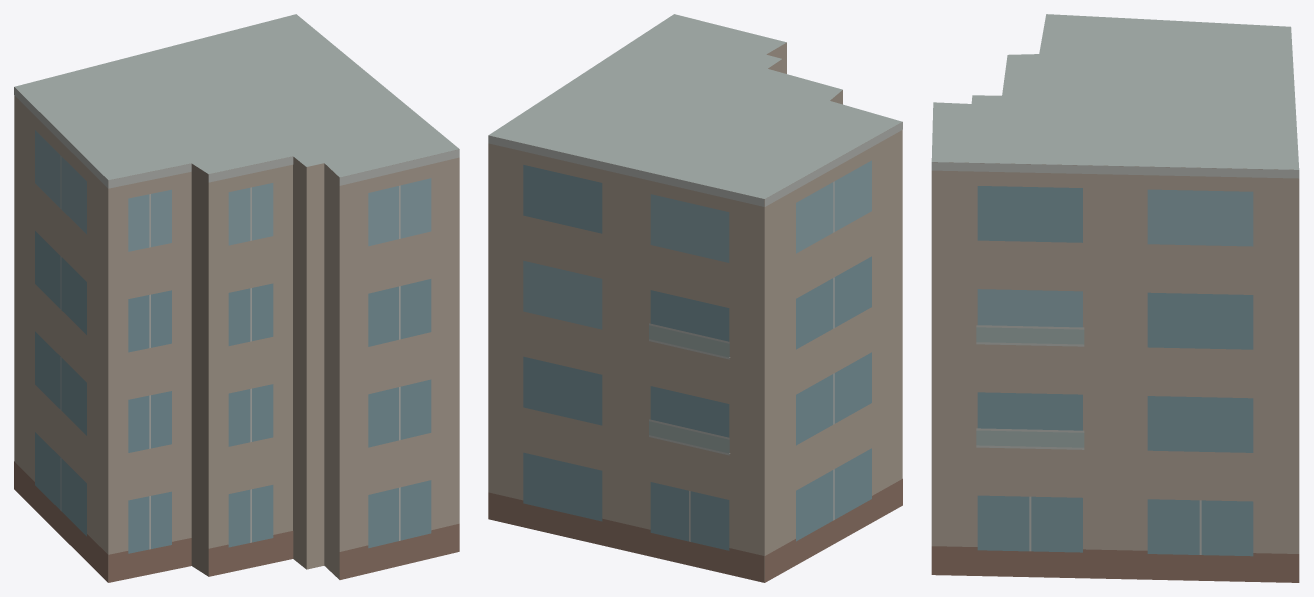
File: survey-upis-32517309.glb
3 views of the same model, side by side, from view 1: azimuth 30°, elevation 25°; view 2: azimuth 150°, elevation 25°; view 3: azimuth 270°, elevation 25° (orthographic). The views are drawn at different scales.
Parts seen in each view (by area): view 1: survey-upis-32517309.tmp; view 2: survey-upis-32517309.tmp; view 3: survey-upis-32517309.tmp.
Part boxes in pixels (left/top/right/bottom): survey-upis-32517309.tmp: left=14, top=14, right=459, bottom=582; survey-upis-32517309.tmp: left=488, top=14, right=902, bottom=582; survey-upis-32517309.tmp: left=931, top=14, right=1299, bottom=582.
Size of the model in its own units: 9.48 by 11.7 by 9.45.
